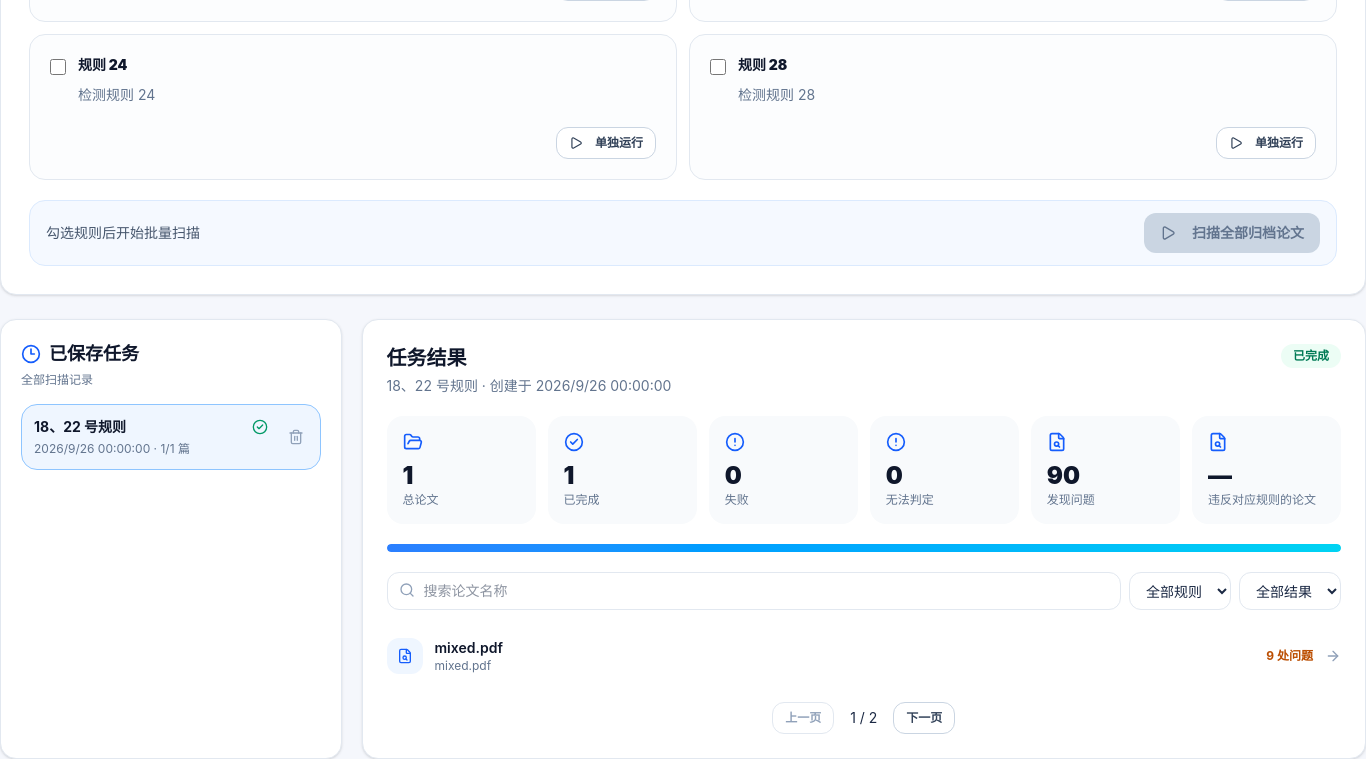
Test case: archive counts follow the selected rule › shows the complete filtered total and restores all-rule counts when cleared
(page scrolled)
Check: the link "mixed.pdf mixed.pdf 9 处问题" is shown, box [386, 626, 1341, 686]
Select "发现问题" in the dropdown named "按结果筛选": (1290, 591) [1239, 572, 1341, 610]
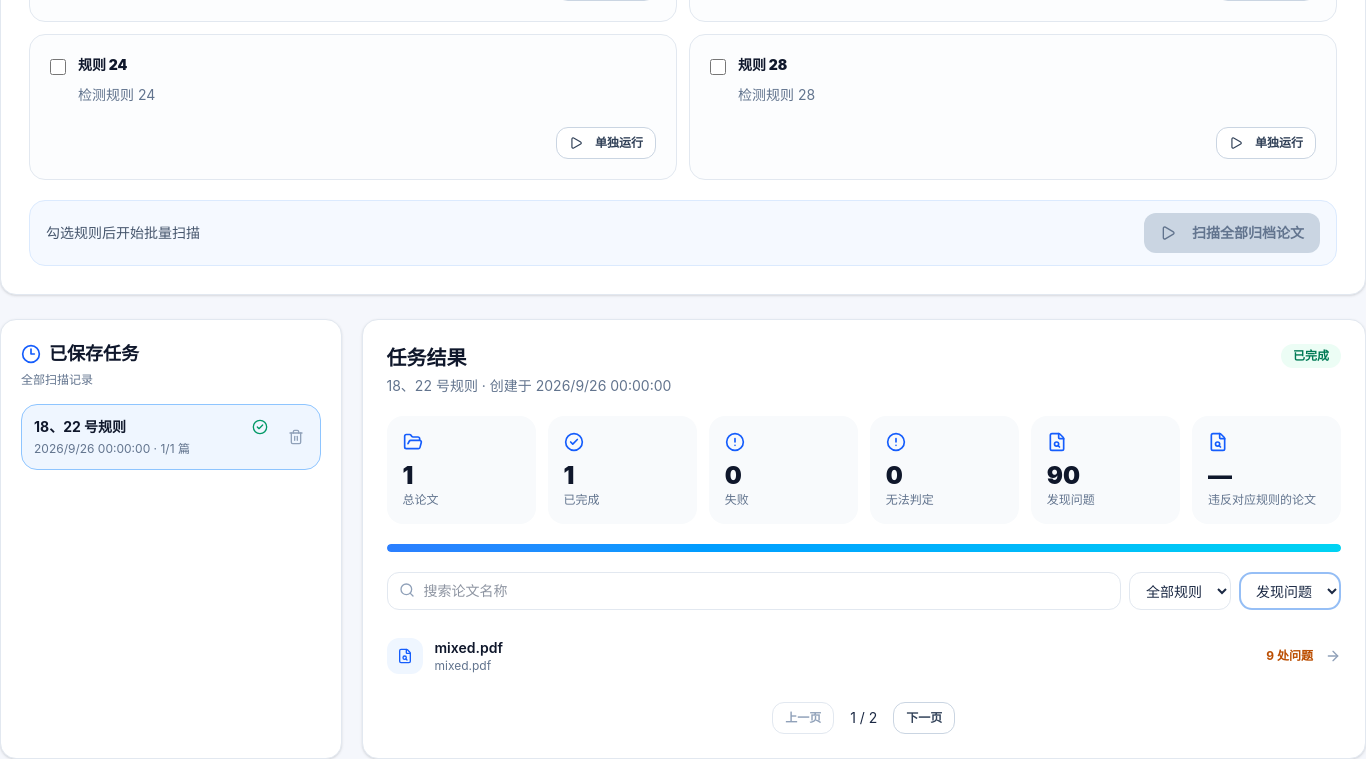
Select "规则 18" in the dropdown named "按规则筛选": (1180, 591) [1129, 572, 1231, 610]
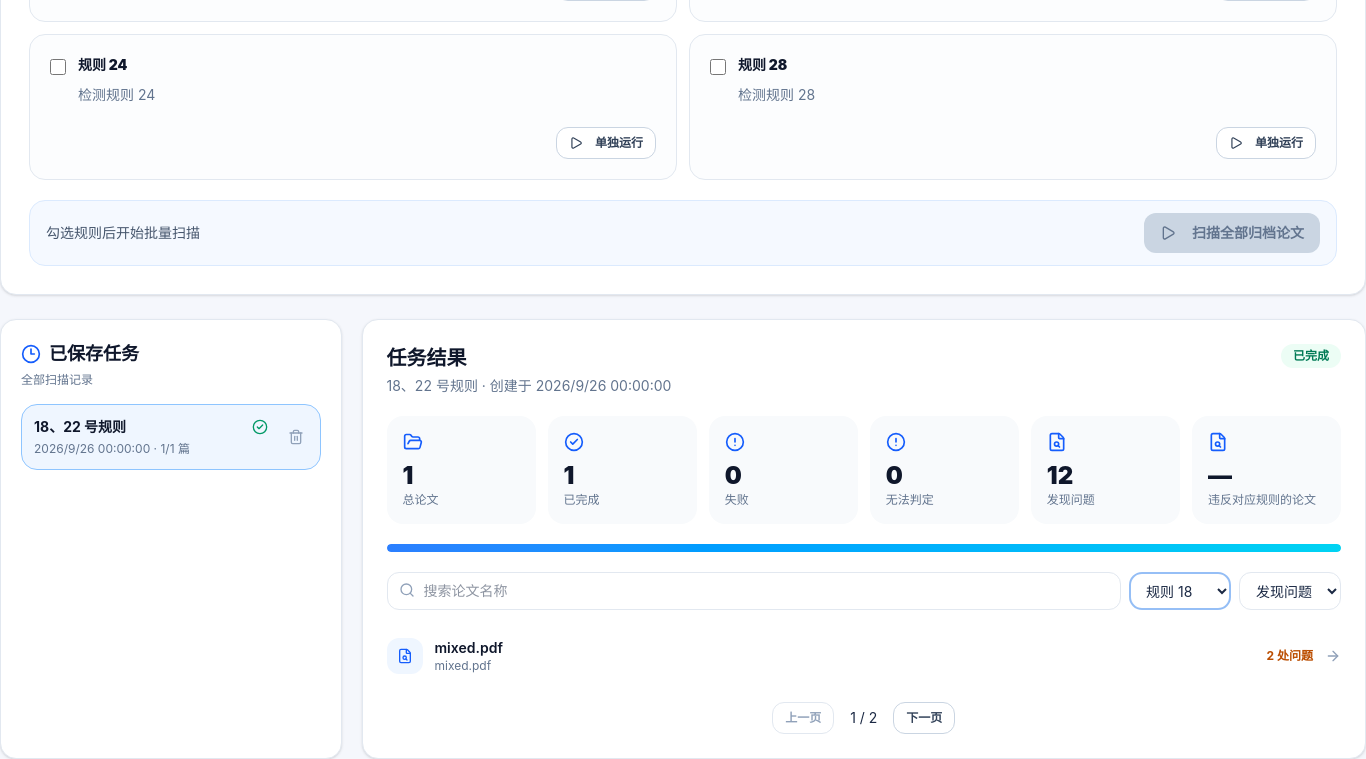
Check: the link "mixed.pdf mixed.pdf 2 处问题" is shown, box [386, 626, 1341, 686]
Check: the text "12" is shown, box [1047, 461, 1073, 490]
Select "全部规则" in the dropdown named "按规则筛选": (1180, 591) [1129, 572, 1231, 610]
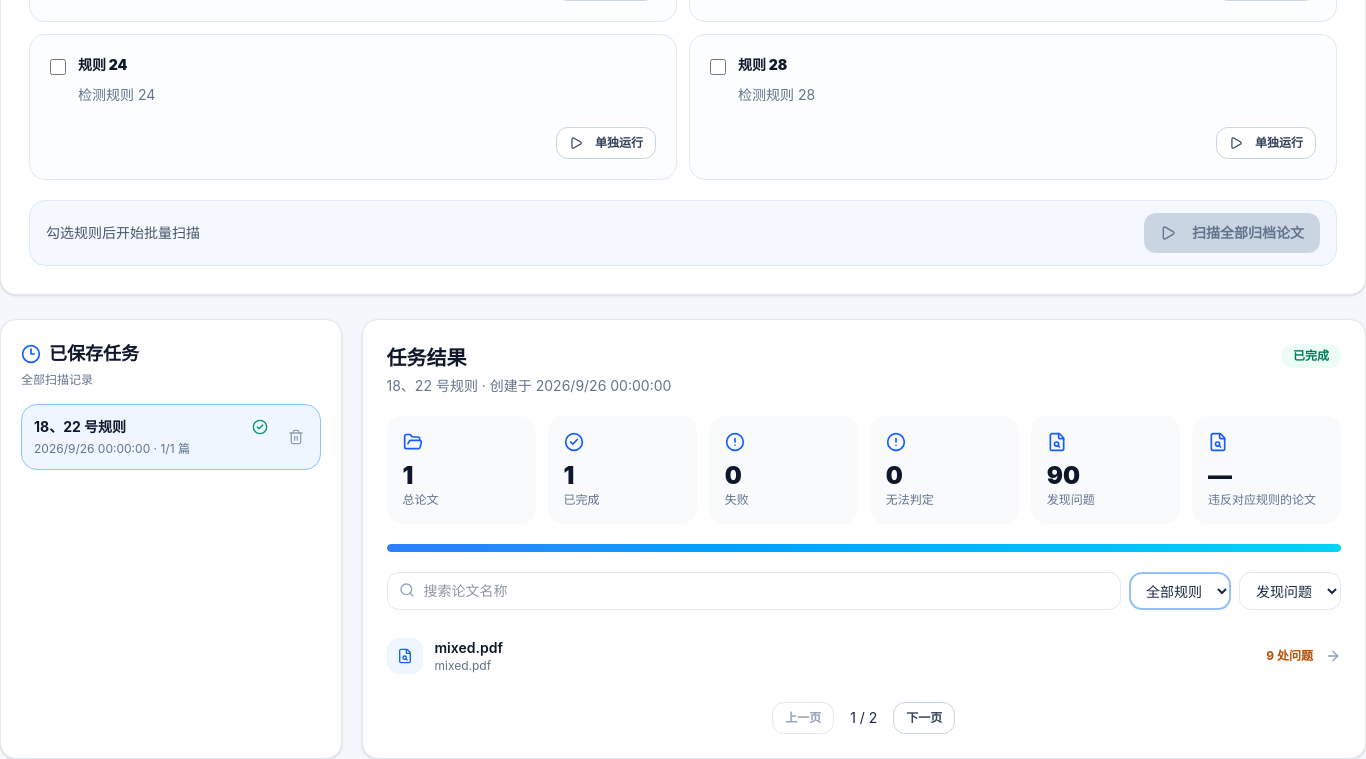
Check: the link "mixed.pdf mixed.pdf 9 处问题" is shown, box [386, 626, 1341, 686]
Check: the text "90" is shown, box [1047, 461, 1080, 490]
